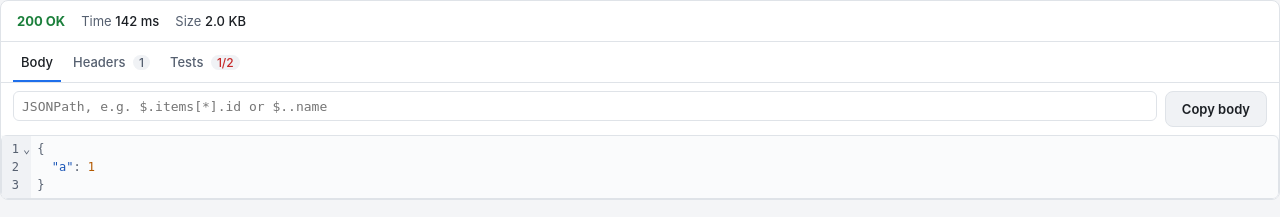
ResponseViewer › lists the tests with what failed and counts them on the tab
The width and height of the screenshot is (1280, 217).
Click the tab "Tests 1/2" at [205, 62], box [162,42,248,82]
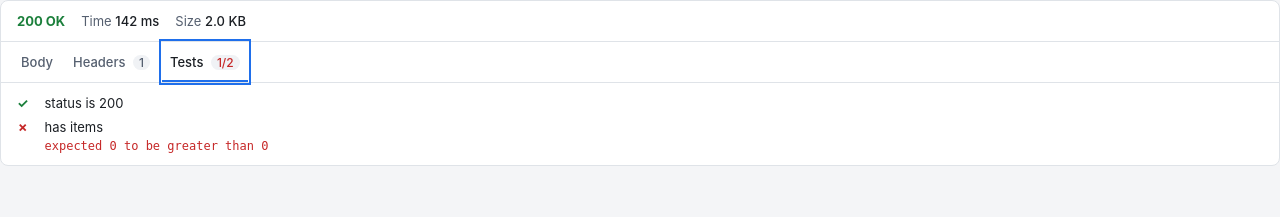
Result: the list named "Tests" shows "status is 200" at [44,95,123,111]
Result: the list named "Tests" shows "expected 0 to be greater than 0" at [44,139,268,153]
Result: the number of pictures named "failed" is 1 at [17,119,28,135]
